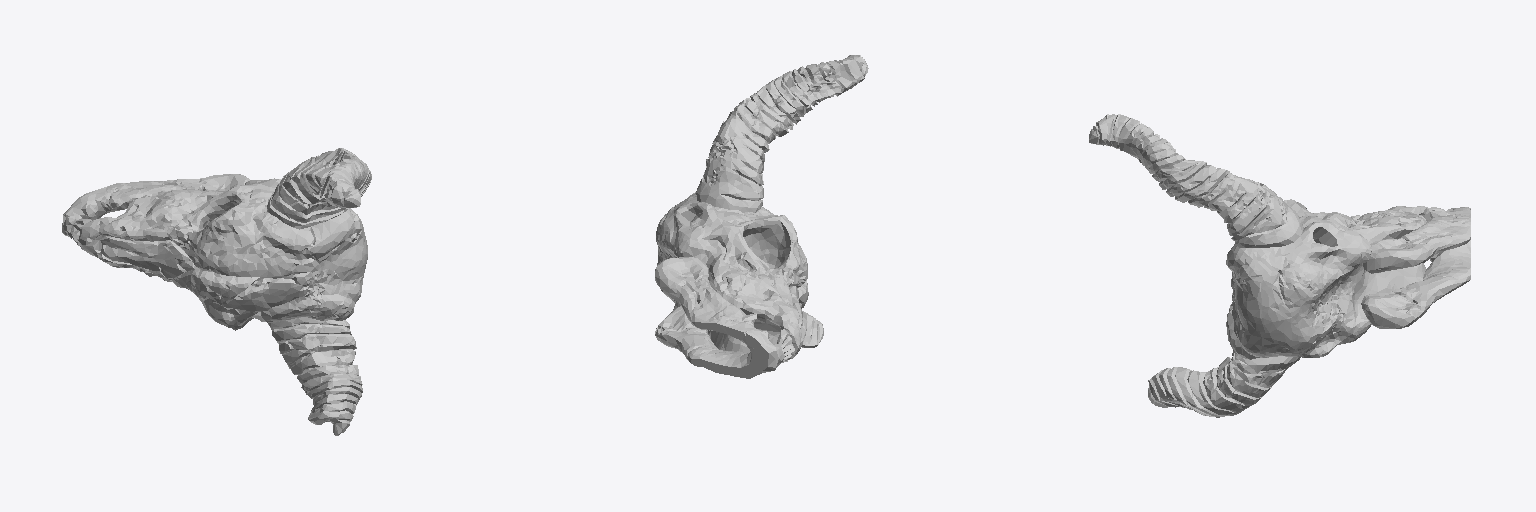
File: 859652-skull_QEM_90pct.obj
3 views of the same model, side by side, from view 1: azimuth 30°, elevation 25°; view 2: azimuth 150°, elevation 25°; view 3: azimuth 270°, elevation 25° (orthographic).
Size of the model in its own units: 0.6282 by 0.8039 by 0.9994.